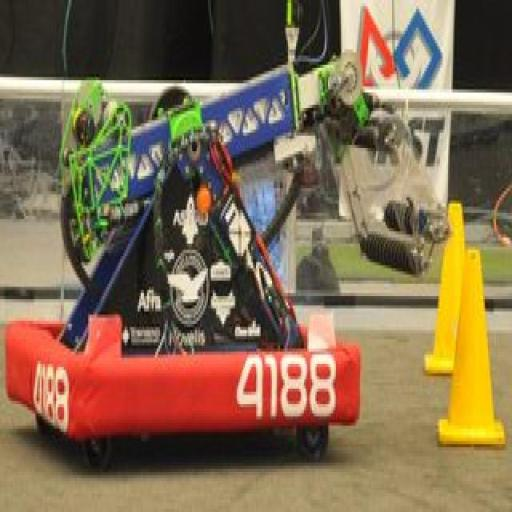robot: (5, 62, 452, 464)
